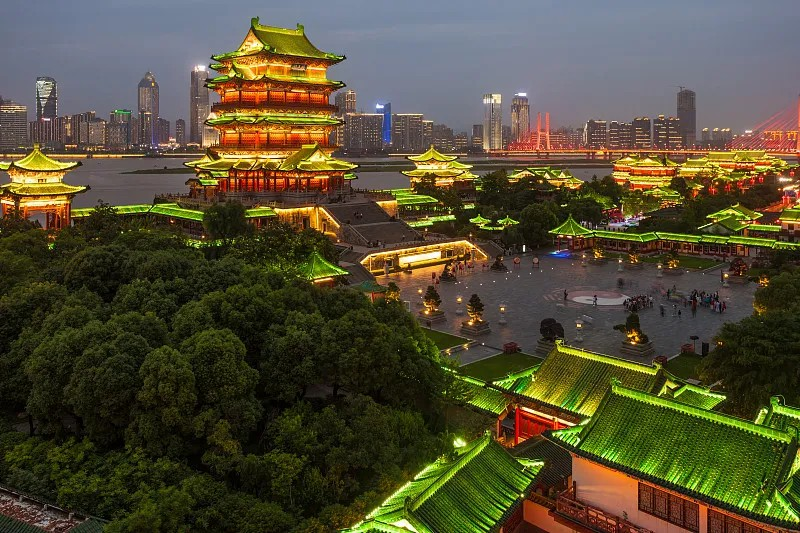Teng: (182, 18, 361, 199)
